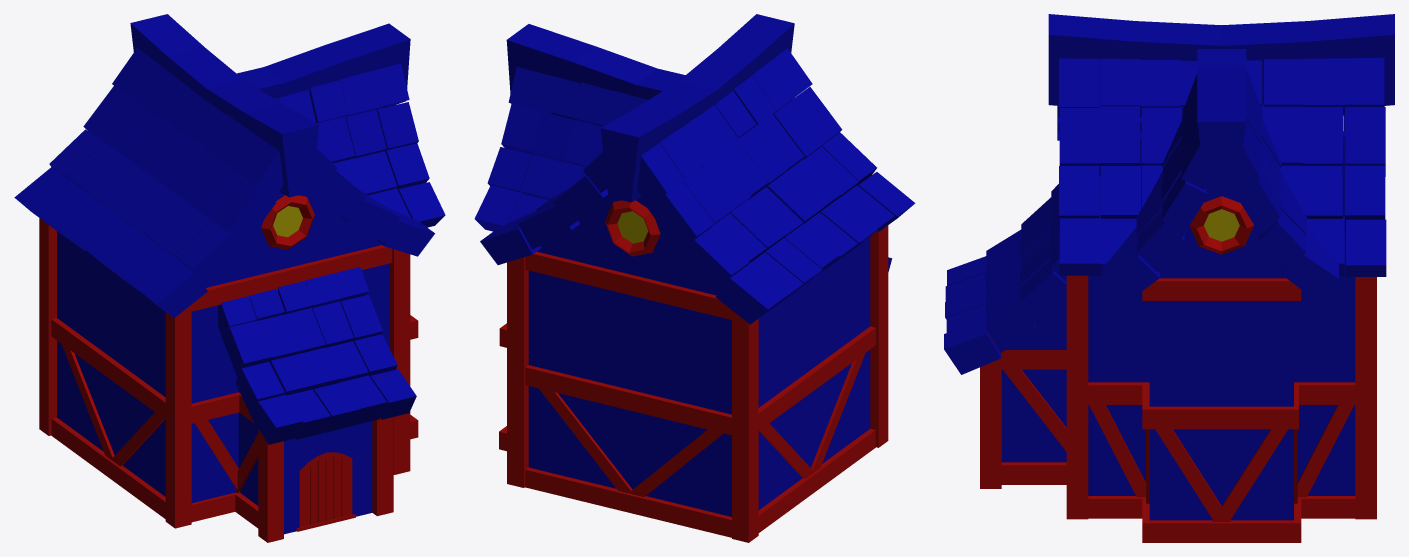
3 renders of one model, left to right at view 1: azimuth 30°, elevation 25°; view 2: azimuth 150°, elevation 25°; view 3: azimuth 270°, elevation 25°, orthographic. The views are drawn at different scales.
Parts seen in each view (by area): view 1: Cube.037, 对象005, Torus.001, 对象002, 对象029, 对象004; view 2: Cube.037, 对象005, Torus.001, 对象002, 对象004; view 3: Cube.037, 对象005, Torus.001, 对象002, 对象004.
Boxes of the visible parts, x1,y1,x2,y2 form: Cube.037: (14, 14, 445, 444); 对象005: (57, 106, 389, 534); Torus.001: (39, 195, 418, 542); 对象002: (51, 415, 418, 528); 对象029: (296, 452, 355, 531); 对象004: (273, 206, 302, 237); Cube.037: (474, 14, 915, 324); 对象005: (528, 195, 870, 516); Torus.001: (499, 137, 888, 542); 对象002: (499, 426, 875, 537); 对象004: (617, 211, 647, 243); Cube.037: (944, 14, 1394, 374); 对象005: (1001, 131, 1355, 520); Torus.001: (980, 196, 1376, 521); 对象002: (1001, 462, 1355, 542); 对象004: (1204, 209, 1239, 241).
Size of the model in its own units: 288 by 329 by 313.
